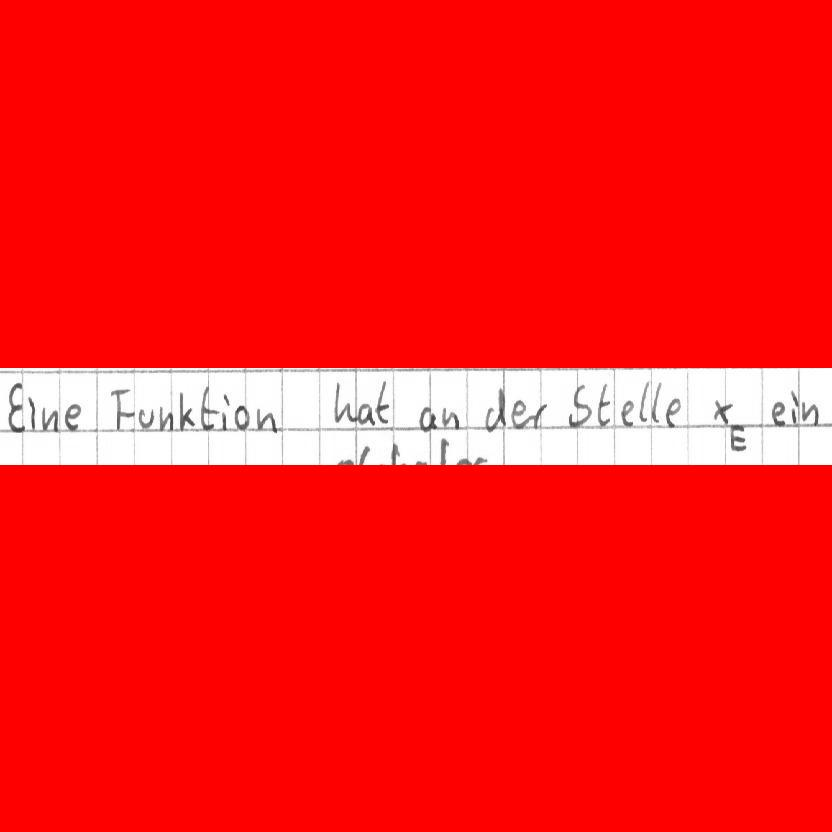Char: (566, 382, 593, 429), (330, 380, 357, 425), (483, 387, 508, 433), (110, 387, 135, 432), (5, 380, 25, 433), (199, 386, 220, 430), (373, 379, 391, 425), (597, 382, 613, 427), (178, 390, 195, 432), (663, 395, 683, 429), (709, 398, 734, 425), (255, 406, 279, 434), (417, 403, 440, 432), (510, 398, 530, 431), (527, 401, 549, 430), (440, 404, 462, 431), (63, 402, 82, 433), (729, 424, 748, 455), (233, 403, 253, 432), (41, 405, 60, 433), (768, 400, 787, 428), (650, 379, 662, 423), (355, 401, 375, 427), (801, 399, 820, 426), (618, 398, 635, 428), (638, 378, 649, 424), (26, 393, 39, 431), (157, 404, 174, 431), (137, 407, 155, 430), (221, 394, 231, 431), (790, 389, 799, 424)
